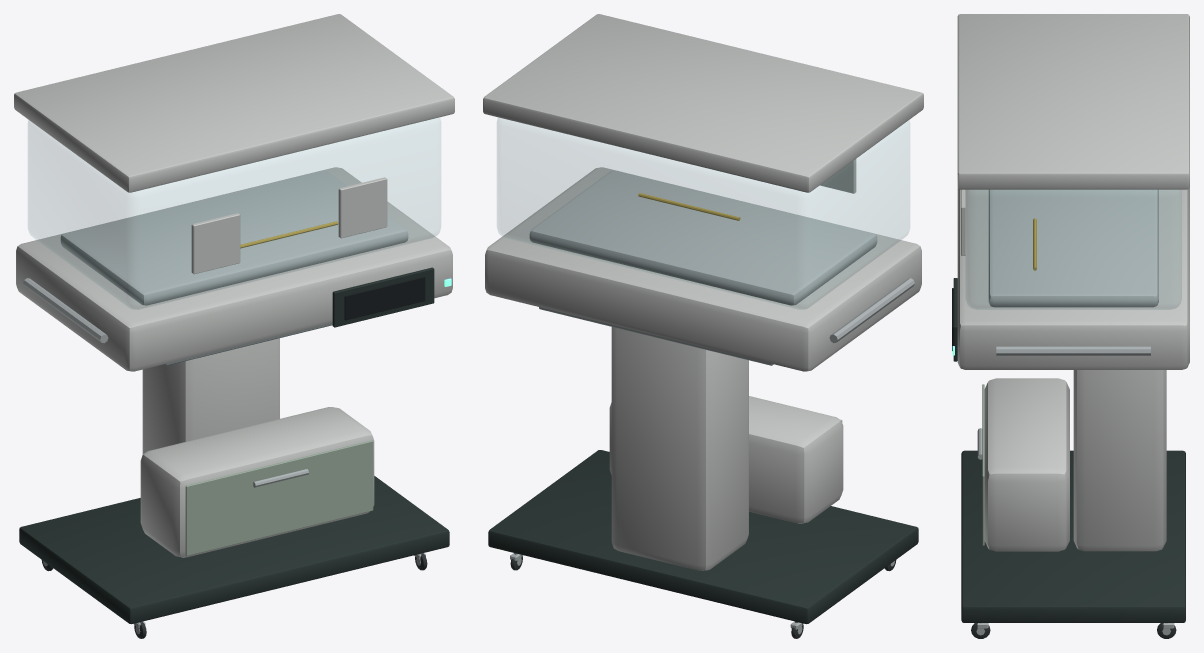
The model's file is neonatal-incubator.glb.
3 views of the same model, side by side, from view 1: azimuth 30°, elevation 25°; view 2: azimuth 150°, elevation 25°; view 3: azimuth 270°, elevation 25° (orthographic).
Visible parts, largest first — view 1: neonatal-incubator; view 2: neonatal-incubator; view 3: neonatal-incubator.
Boxes of the visible parts, bbox=[...] form: neonatal-incubator: bbox=[14, 14, 454, 638]; neonatal-incubator: bbox=[483, 14, 923, 638]; neonatal-incubator: bbox=[952, 14, 1189, 638].
Bounding box in the file's own units: 1.03 × 1.36 × 0.614.
